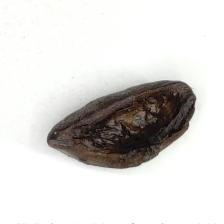NG: (71, 83, 192, 162)
